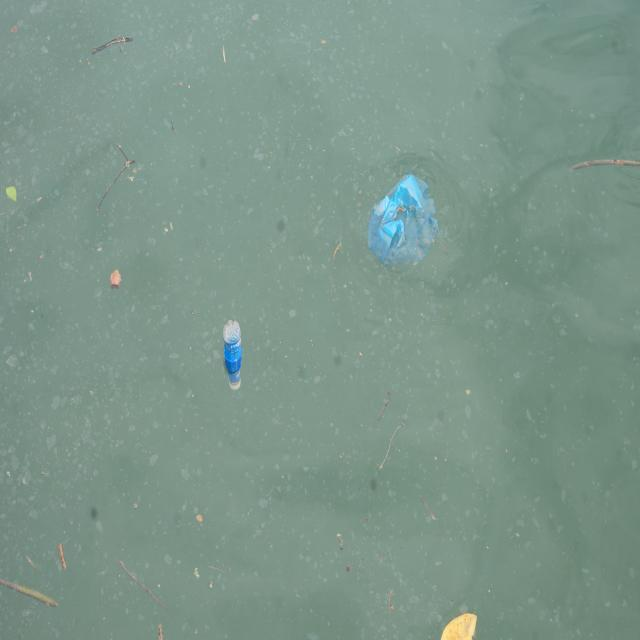Botol Plastik: (221, 313, 247, 400)
Kantong Plastik: (368, 175, 441, 269)
